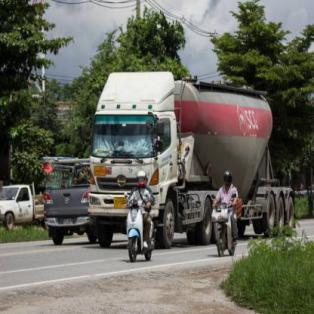Motocicleta: (119, 191, 155, 267), (208, 195, 242, 261)
